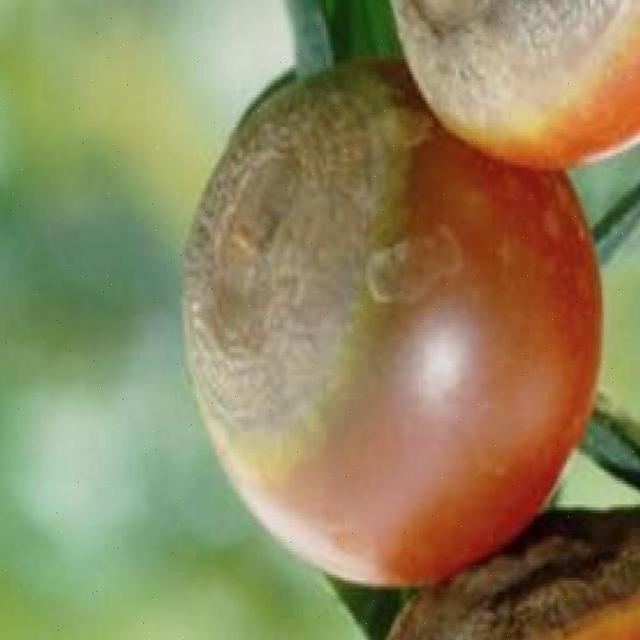Blossom End Rot Fruit: (146, 46, 344, 383)
